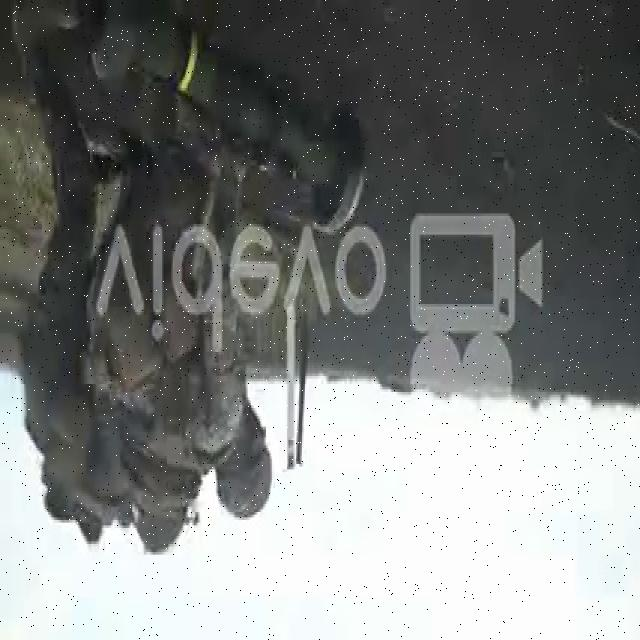bazooka: (83, 1, 371, 241)
